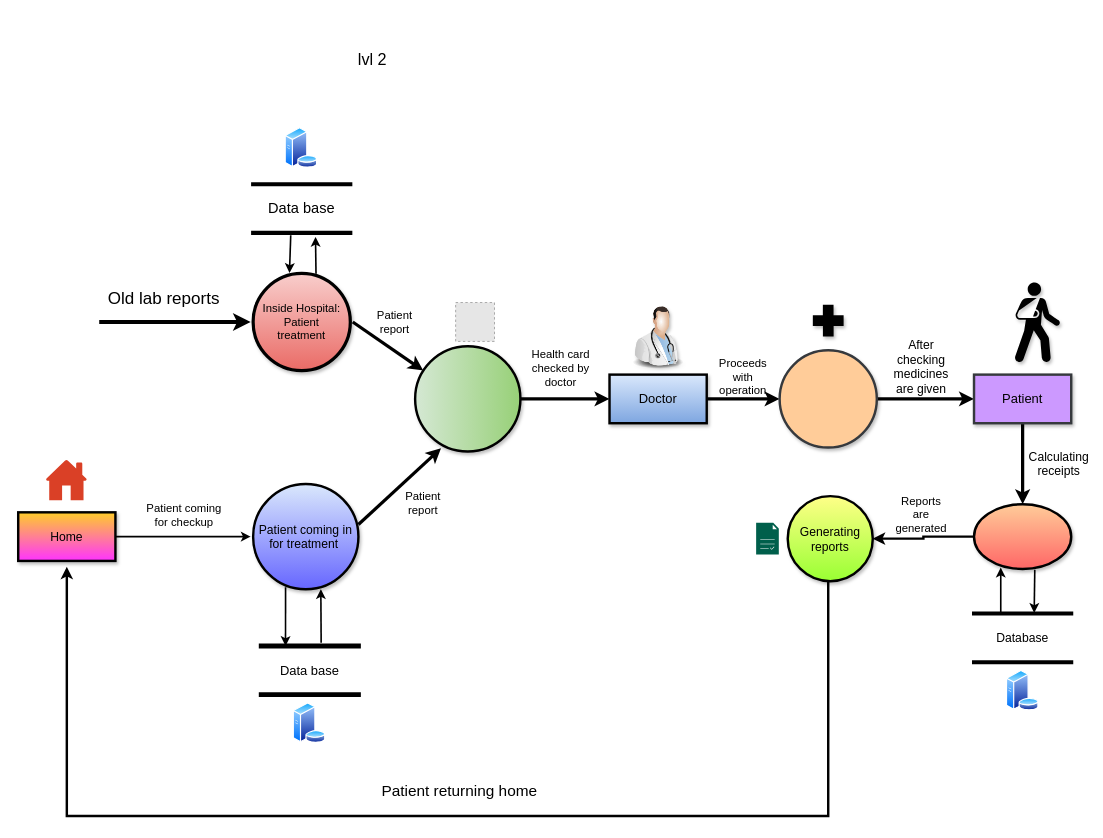
Some shapes in this 1103 by 838 pixel diagram are drawn without their labels. Grey dashed boxes stand in for pictures. Here are the shapes that lost their labels. From the top down, the centre of each, then its label:
At (468,399): "Health Card".
At (828,399): "Operation time".
At (1023,537): "Billing of patient".
